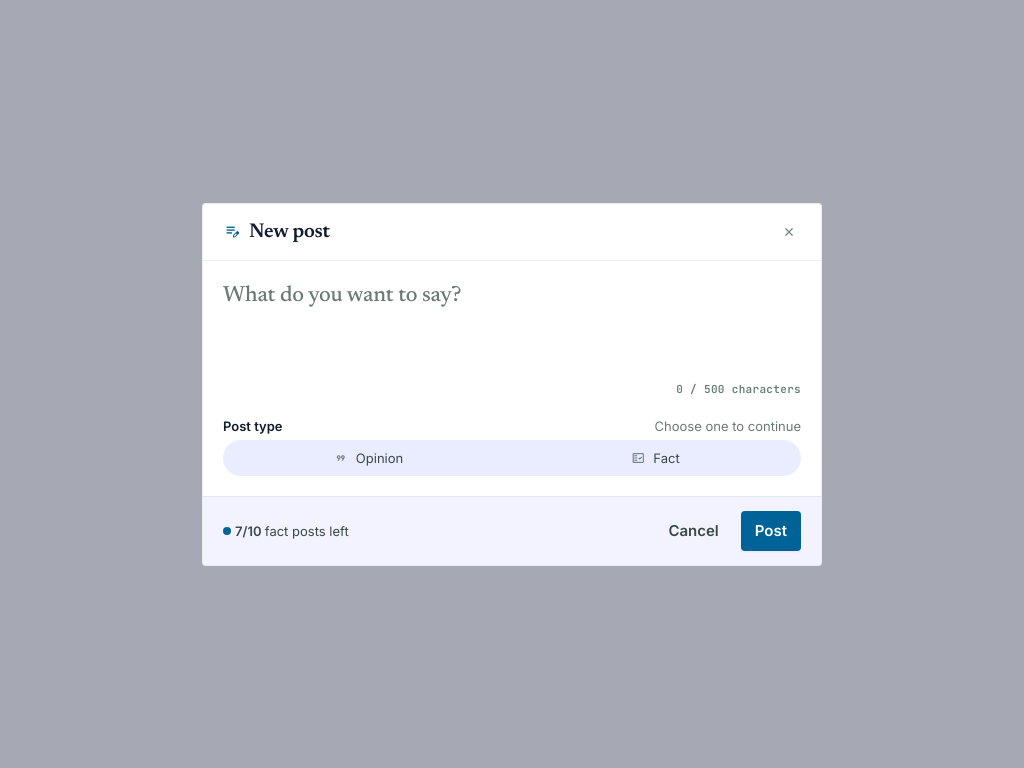
ComposerModal: client validation › focuses the type choice when only the type is missing
Step 1. Type "Something to say" into the text box named "Post text" → (512, 326), box [223, 280, 801, 370]
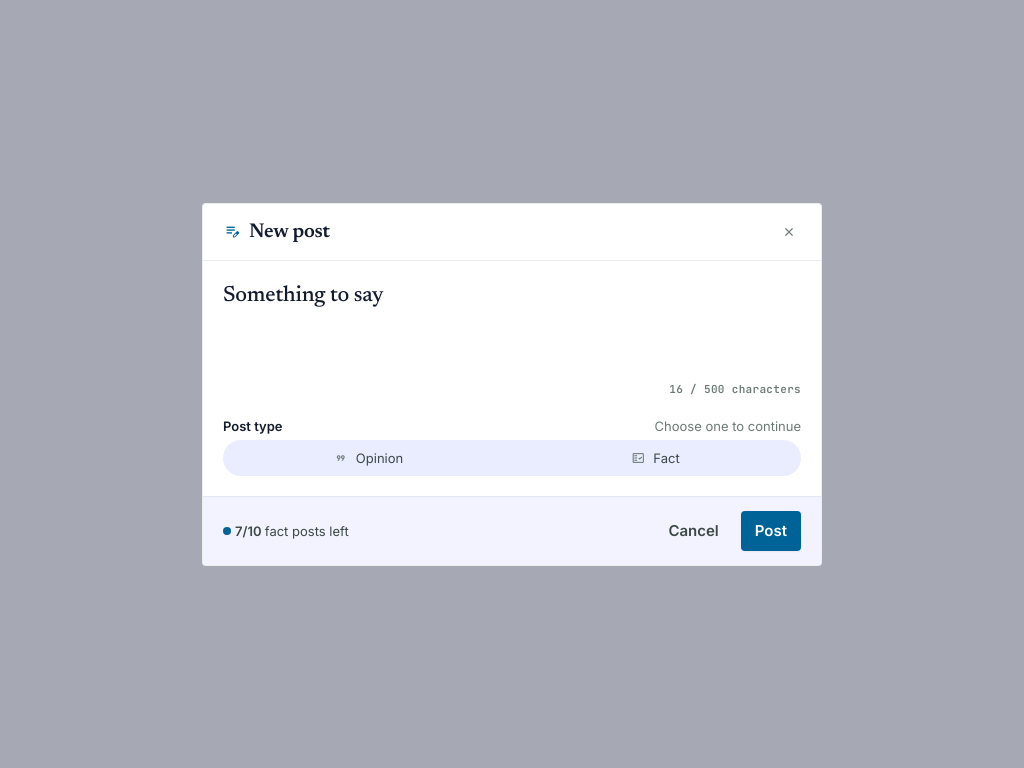
Step 2. Click the button "Post" → (771, 530), box [741, 510, 801, 550]
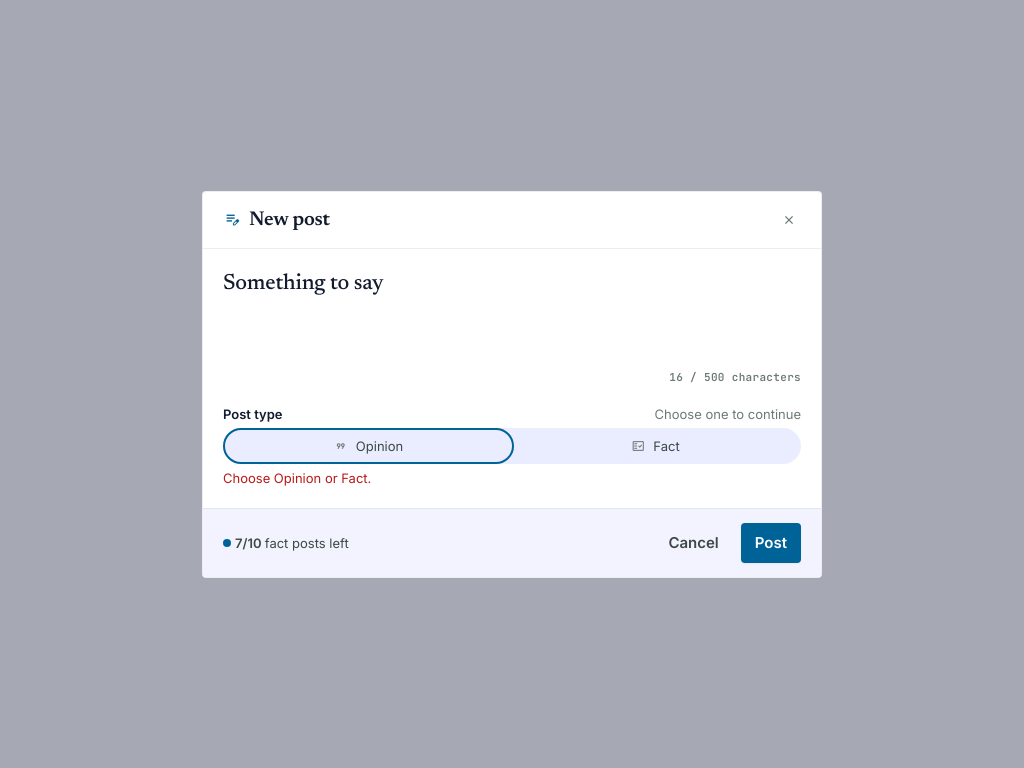
Expected: the text "Choose Opinion or Fact." is shown, [223, 470, 371, 486]
